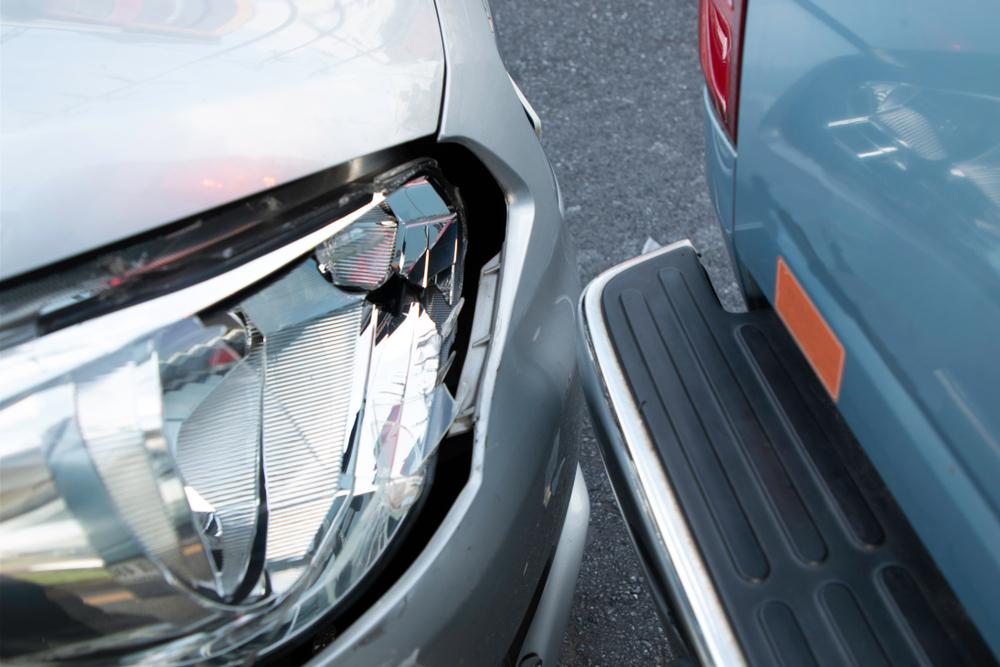lamp broken: (0, 167, 478, 667)
